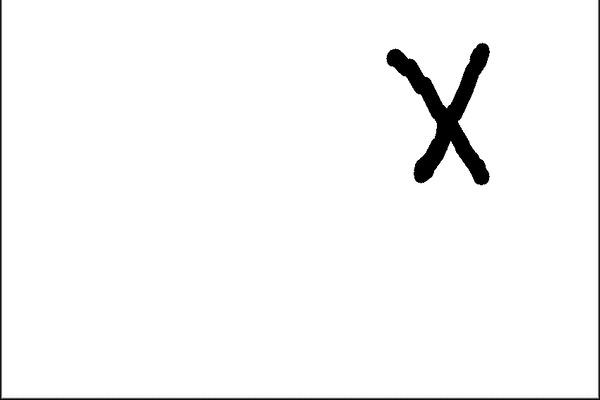X: (360, 20, 500, 208)
